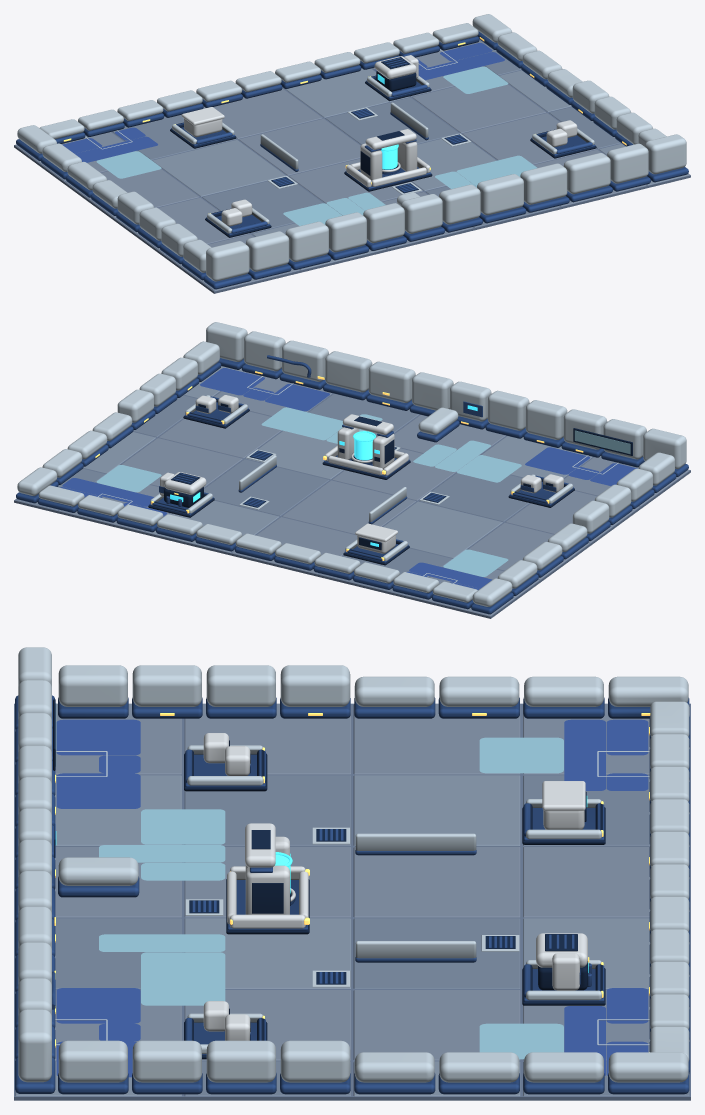
File: CryoSoftRoom.fbx
3 renders of one model, top to bottom at view 1: azimuth 30°, elevation 25°; view 2: azimuth 150°, elevation 25°; view 3: azimuth 270°, elevation 25°, orthographic. The views are drawn at different scales.
Parts seen in each view (by area): view 1: SC_wall_Soft_Ivory, SC_floor_Soft_Floor, SC_floor_Soft_FloorLight, SC_wall_Soft_Blue, SC_floor_Soft_FloorShade, SC_marking_Soft_Ice, SC_obstacle_Soft_White, SC_floor_Soft_Seam, SC_marking_Soft_Dock, SC_obstacle_Soft_Blue, SC_obstacle_Soft_Navy, SC_obstacle_Soft_Ivory (+4 smaller); view 2: SC_wall_Soft_Ivory, SC_floor_Soft_Floor, SC_floor_Soft_FloorLight, SC_floor_Soft_FloorShade, SC_wall_Soft_Blue, SC_marking_Soft_Dock, SC_marking_Soft_Ice, SC_obstacle_Soft_White, SC_floor_Soft_Seam, SC_obstacle_Soft_Blue, SC_obstacle_Soft_Navy, SC_obstacle_Soft_Ivory (+4 smaller); view 3: SC_wall_Soft_Ivory, SC_floor_Soft_Floor, SC_floor_Soft_FloorLight, SC_floor_Soft_FloorShade, SC_wall_Soft_Blue, SC_marking_Soft_Dock, SC_marking_Soft_Ice, SC_obstacle_Soft_White, SC_floor_Soft_Seam, SC_obstacle_Soft_Blue, SC_obstacle_Soft_Navy, SC_rail_Soft_Ivory (+5 smaller).
Boxes of the visible parts, left/top/right/bottom form: SC_wall_Soft_Ivory: left=17, top=14, right=686, bottom=281; SC_floor_Soft_Floor: left=15, top=47, right=646, bottom=290; SC_floor_Soft_FloorLight: left=152, top=68, right=689, bottom=269; SC_wall_Soft_Blue: left=16, top=31, right=688, bottom=289; SC_floor_Soft_FloorShade: left=112, top=39, right=620, bottom=233; SC_marking_Soft_Ice: left=96, top=66, right=536, bottom=225; SC_obstacle_Soft_White: left=181, top=55, right=577, bottom=226; SC_floor_Soft_Seam: left=14, top=47, right=690, bottom=293; SC_marking_Soft_Dock: left=62, top=43, right=504, bottom=162; SC_obstacle_Soft_Blue: left=171, top=58, right=595, bottom=235; SC_obstacle_Soft_Navy: left=170, top=57, right=596, bottom=237; SC_obstacle_Soft_Ivory: left=172, top=76, right=594, bottom=233; SC_wall_Soft_Ivory: left=17, top=322, right=686, bottom=606; SC_floor_Soft_Floor: left=58, top=372, right=689, bottom=616; SC_floor_Soft_FloorLight: left=83, top=366, right=592, bottom=558; SC_floor_Soft_FloorShade: left=15, top=393, right=529, bottom=594; SC_wall_Soft_Blue: left=16, top=355, right=688, bottom=614; SC_marking_Soft_Dock: left=60, top=368, right=637, bottom=589; SC_marking_Soft_Ice: left=96, top=407, right=521, bottom=576; SC_obstacle_Soft_White: left=160, top=395, right=563, bottom=553; SC_floor_Soft_Seam: left=14, top=372, right=690, bottom=618; SC_obstacle_Soft_Blue: left=149, top=396, right=573, bottom=562; SC_obstacle_Soft_Navy: left=148, top=403, right=574, bottom=565; SC_obstacle_Soft_Ivory: left=150, top=395, right=572, bottom=560; SC_wall_Soft_Ivory: left=18, top=647, right=689, bottom=1082; SC_floor_Soft_Floor: left=55, top=703, right=689, bottom=1060; SC_floor_Soft_FloorLight: left=15, top=775, right=649, bottom=1096; SC_floor_Soft_FloorShade: left=55, top=775, right=689, bottom=1096; SC_wall_Soft_Blue: left=15, top=695, right=689, bottom=1094; SC_marking_Soft_Dock: left=56, top=719, right=648, bottom=1077; SC_marking_Soft_Ice: left=99, top=737, right=563, bottom=1059; SC_obstacle_Soft_White: left=203, top=733, right=587, bottom=1040; SC_floor_Soft_Seam: left=14, top=703, right=690, bottom=1100; SC_obstacle_Soft_Blue: left=185, top=749, right=604, bottom=1055; SC_obstacle_Soft_Navy: left=184, top=740, right=605, bottom=1059; SC_rail_Soft_Ivory: left=355, top=833, right=476, bottom=958.
Size of the model in its own units: 4400 by 387 by 3200.
